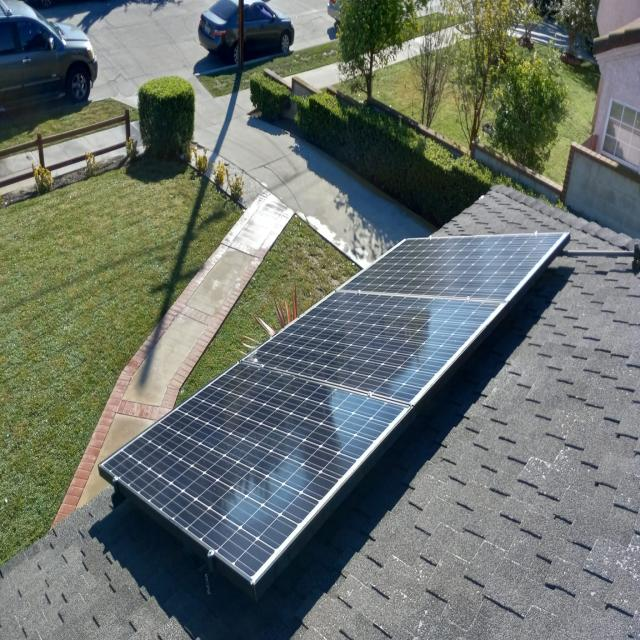clean-solar-panel: (100, 233, 569, 596)
